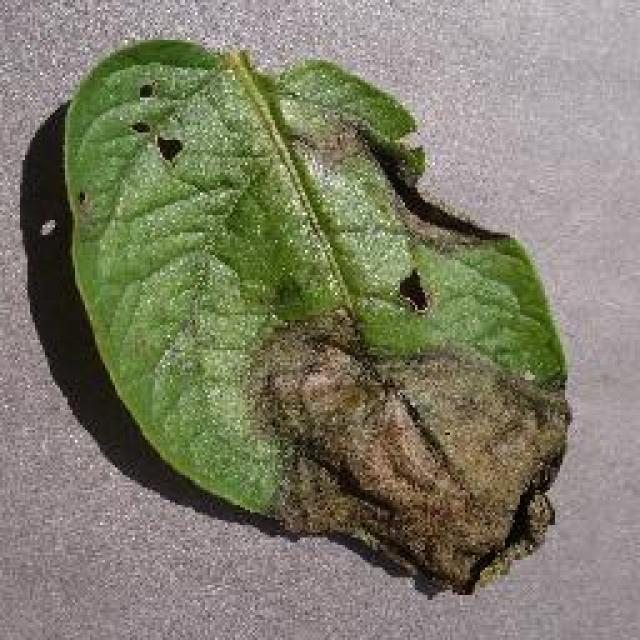Potato___Late_blight: (62, 36, 579, 603)
